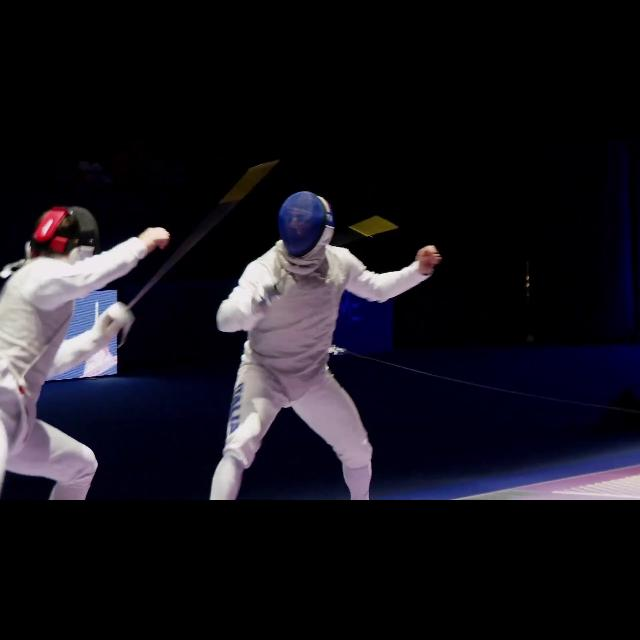blade: (101, 162, 277, 326), (254, 216, 394, 298)
